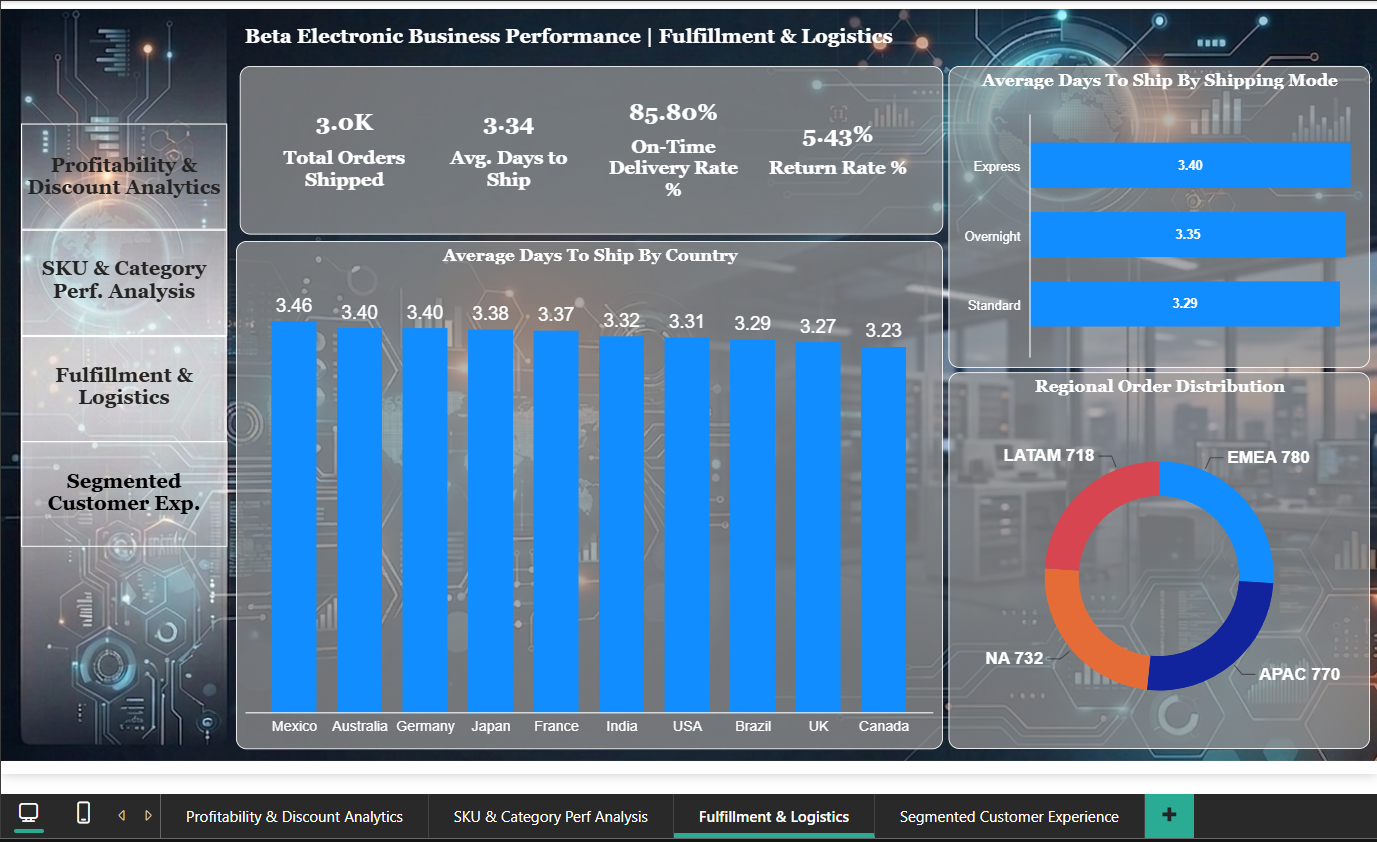

Layout of this report page (visuals, bound fields, positions):
{"tool":"powerbi","page":{"name":"Fulfillment & Logistics","canvas":[1280,720],"ordinal":2},"visuals":[{"type":"cardVisual","fields":{"Data":["Beta_Electronics_Data.Total Orders Shipped","Beta_Electronics_Data.Avg. Days to Ship","Beta_Electronics_Data.On-Time Delivery Rate %","Beta_Electronics_Data.Return Rate %"]},"box":[221.7,60,654.2,156.8],"z":0},{"type":"textbox","box":[221.7,17.2,1051.2,35.5],"z":1000},{"type":"textbox","box":[18.6,137.3,191.7,54.4],"z":2000},{"type":"textbox","box":[18.6,233.7,191.9,76.7],"z":3000},{"type":"textbox","box":[18.6,332.7,191.7,54.4],"z":4000},{"type":"textbox","box":[18.6,431.7,191.7,54.4],"z":5000},{"type":"actionButton","box":[18.2,409.7,192.1,98.5],"z":6000},{"type":"donutChart","title":"Regional Order Distribution","fields":{"Category":["Beta_Electronics_Data.Region"],"Y":["CountNonNull(Beta_Electronics_Data.Order ID)"]},"box":[880.9,345.5,392,350.4],"z":7000},{"type":"clusteredColumnChart","title":"Average Days To Ship By Country","fields":{"Y":["Beta_Electronics_Data.Avg. Days to Ship"],"Category":["Beta_Electronics_Data.Country"]},"box":[218.1,223,657.9,472.9],"z":8000},{"type":"actionButton","box":[18.5,311.4,191.5,98.9],"z":9000},{"type":"actionButton","box":[18.6,212.8,191.9,98.8],"z":10000},{"type":"actionButton","box":[18.6,114,191.9,98.8],"z":11000},{"type":"clusteredBarChart","title":"Average Days To Ship By Shipping Mode","fields":{"Category":["Beta_Electronics_Data.Ship Mode"],"Y":["Beta_Electronics_Data.Avg. Days to Ship"]},"box":[880.9,60,392,280.6],"z":12000}]}

Visuals, with their boxes on the page's 1280x720 design canvas (x1, y1, x2, y2). These are canvas units, not pixel positions in the 1377x842 screenshot, which may show the page scaled, cropped or inside an application window:
cardVisual - Beta_Electronics_Data.Total Orders Shipped x Beta_Electronics_Data.Avg. Days to Ship: [x1=222, y1=60, x2=876, y2=217]
textbox: [x1=222, y1=17, x2=1273, y2=53]
textbox: [x1=19, y1=137, x2=210, y2=192]
textbox: [x1=19, y1=234, x2=210, y2=310]
textbox: [x1=19, y1=333, x2=210, y2=387]
textbox: [x1=19, y1=432, x2=210, y2=486]
actionButton: [x1=18, y1=410, x2=210, y2=508]
"Regional Order Distribution" donutChart: [x1=881, y1=346, x2=1273, y2=696]
"Average Days To Ship By Country" clusteredColumnChart: [x1=218, y1=223, x2=876, y2=696]
actionButton: [x1=18, y1=311, x2=210, y2=410]
actionButton: [x1=19, y1=213, x2=210, y2=312]
actionButton: [x1=19, y1=114, x2=210, y2=213]
"Average Days To Ship By Shipping Mode" clusteredBarChart: [x1=881, y1=60, x2=1273, y2=341]
